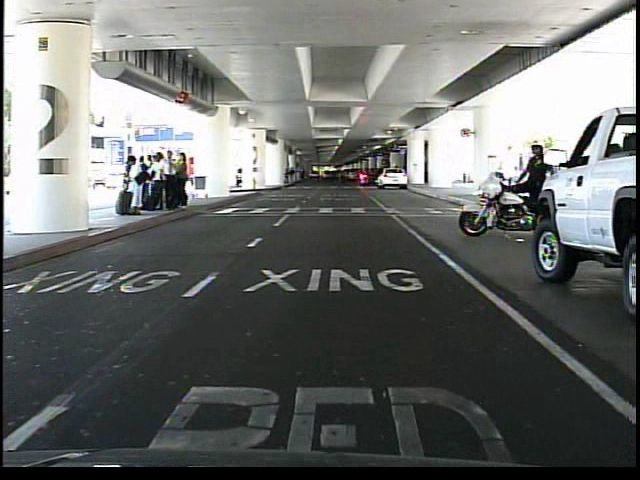person: (515, 132, 556, 240)
